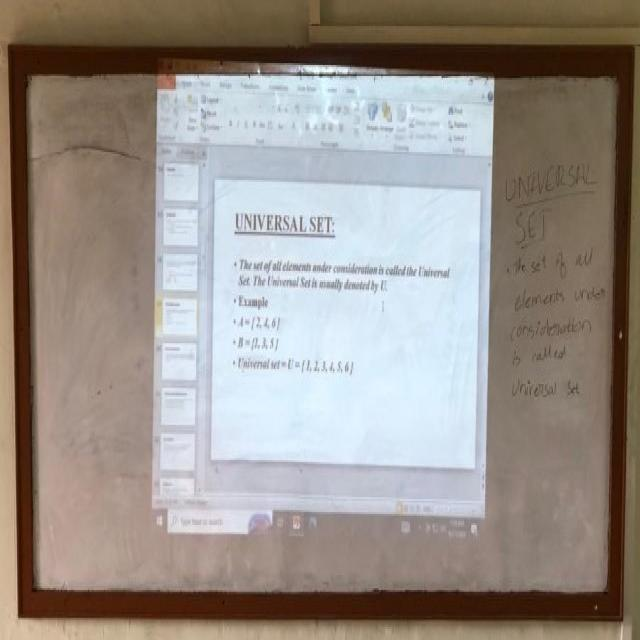Slide: (150, 51, 496, 534)
White-board: (19, 55, 623, 608)
